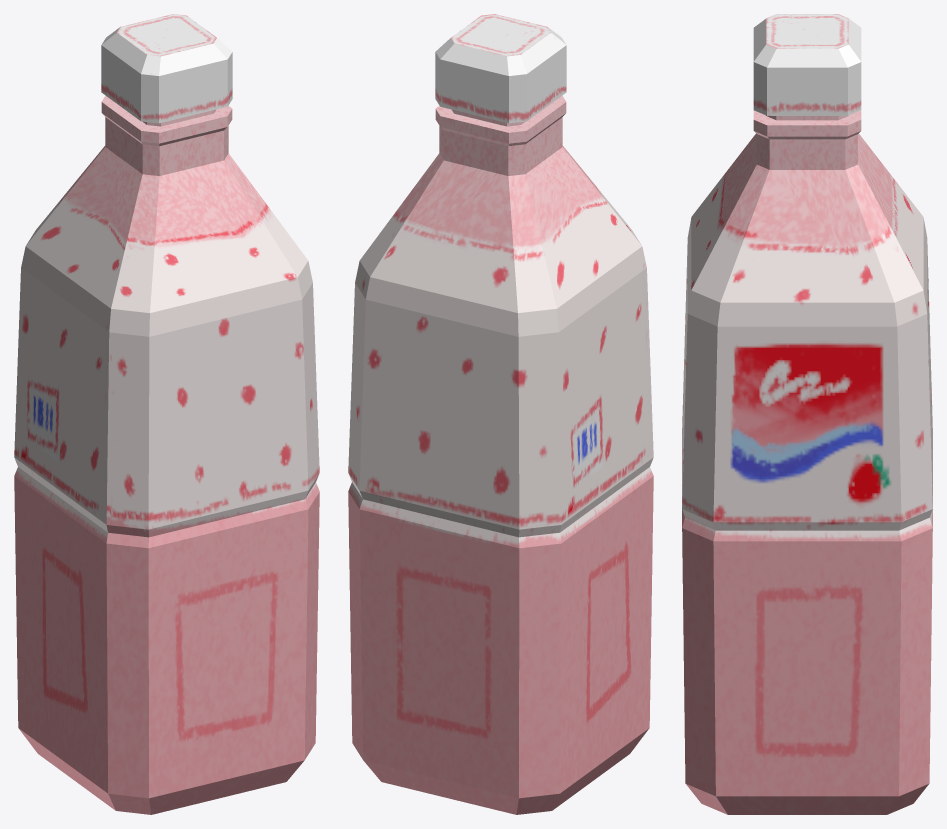
The model's file is calpico_strawberry.obj.
3 views of the same model, side by side, from view 1: azimuth 30°, elevation 25°; view 2: azimuth 150°, elevation 25°; view 3: azimuth 270°, elevation 25° (orthographic).
Parts seen in each view (by area): view 1: calpico_strawberry_Cube.001; view 2: calpico_strawberry_Cube.001; view 3: calpico_strawberry_Cube.001.
Boxes of the visible parts, x1,y1,x2,y2 form: calpico_strawberry_Cube.001: (14,14,319,814); calpico_strawberry_Cube.001: (348,14,653,814); calpico_strawberry_Cube.001: (682,14,932,814).
Size of the model in its own units: 0.7807 by 2.54 by 0.7807.
